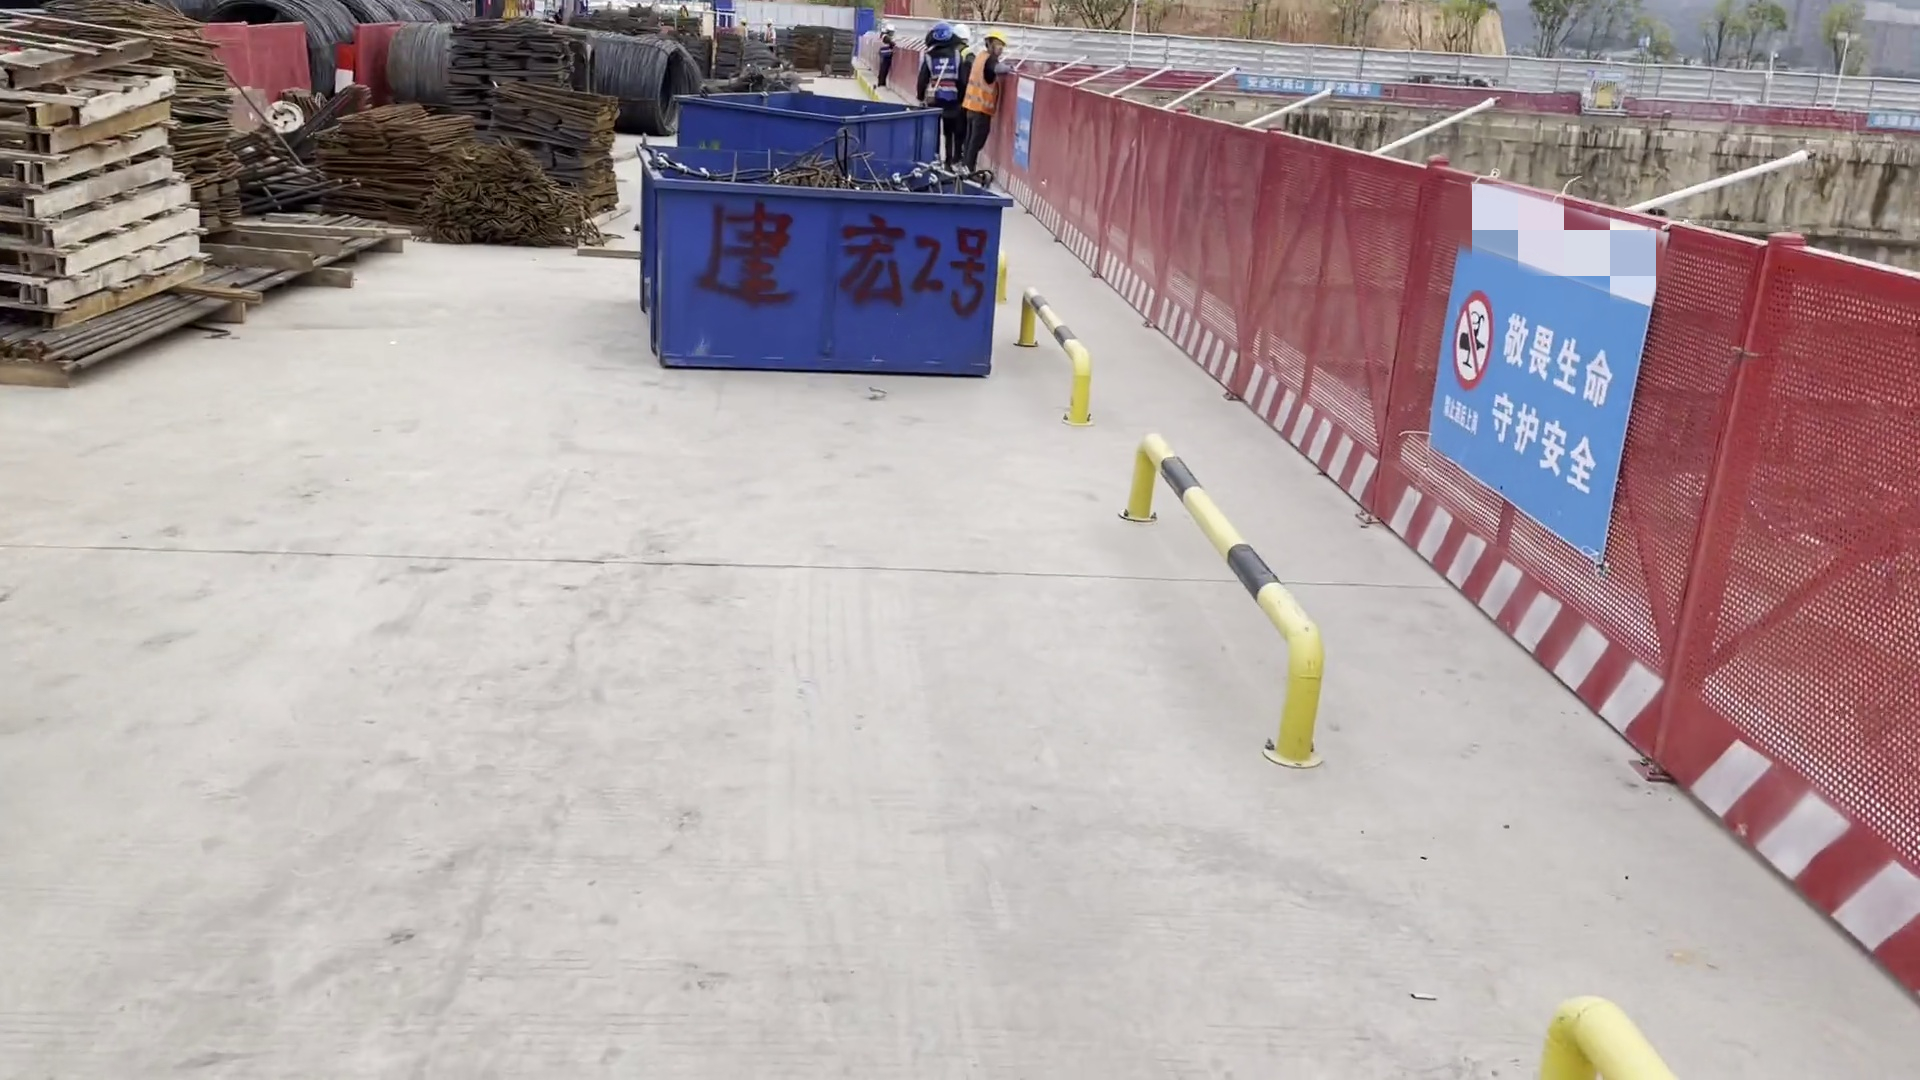helmet: (984, 30, 1010, 45), (930, 26, 951, 41), (951, 24, 969, 39), (883, 25, 895, 31), (768, 19, 773, 24), (740, 18, 745, 22)
person: (964, 31, 1009, 167), (922, 33, 962, 143), (866, 24, 900, 93), (763, 20, 781, 47), (737, 18, 753, 41)
vest: (963, 54, 995, 116), (923, 43, 958, 99), (878, 36, 893, 60), (766, 27, 776, 44), (738, 24, 748, 39)
